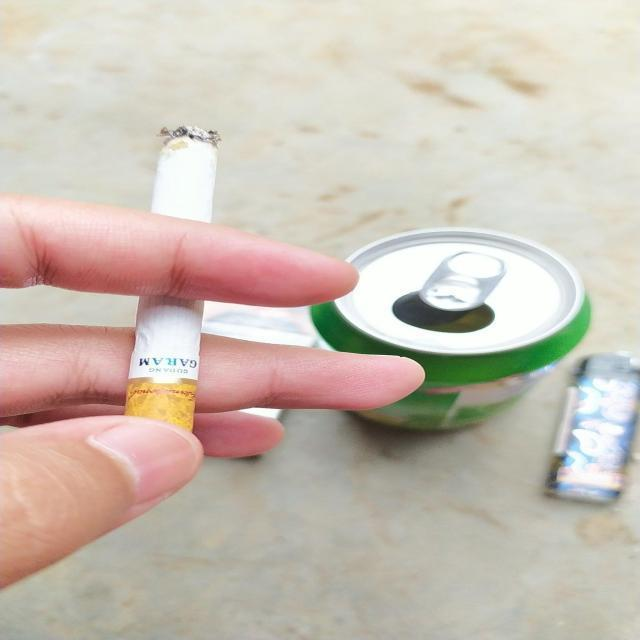rokok: (123, 120, 225, 452)
